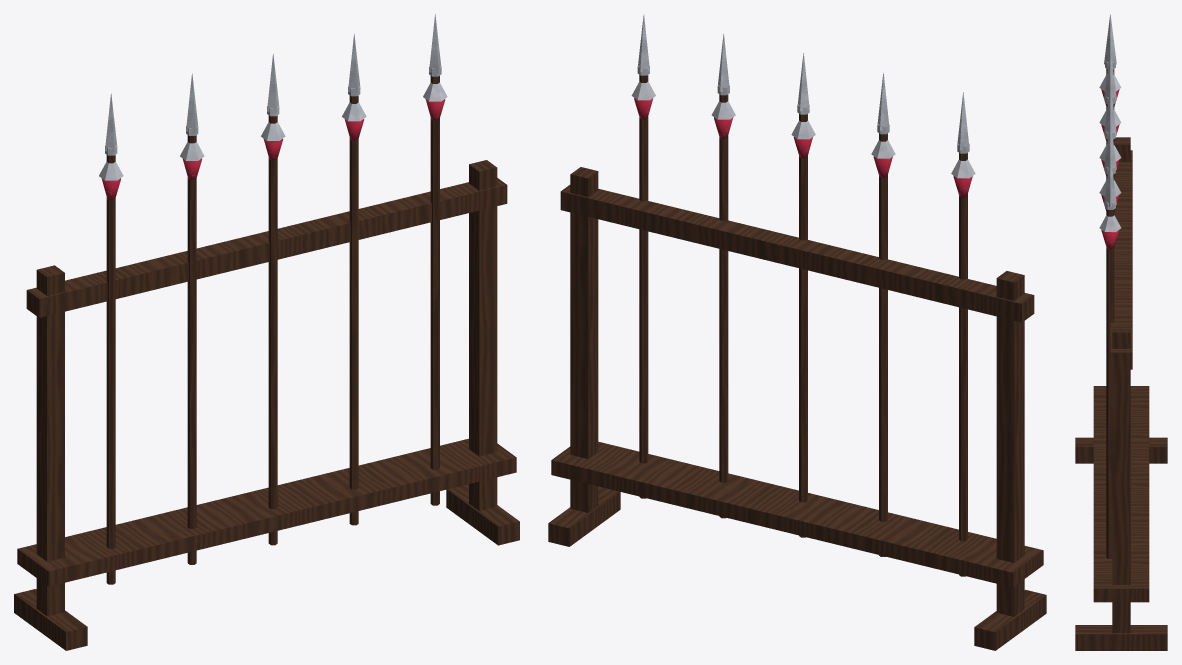
Rendered from weapon_rack.glb.
The picture shows the model from 3 angles, left to right: view 1: azimuth 30°, elevation 25°; view 2: azimuth 150°, elevation 25°; view 3: azimuth 270°, elevation 25°; orthographic projection. The views are drawn at different scales.
Visible parts, largest first — view 1: RackWood, RackBlades, RackTassels; view 2: RackWood, RackBlades, RackTassels; view 3: RackWood, RackBlades, RackTassels.
Boxes of the visible parts, x1,y1,x2,y2 form: RackWood: (14,76,519,650); RackBlades: (99,14,447,180); RackTassels: (101,99,445,200); RackWood: (548,75,1046,650); RackBlades: (631,14,975,178); RackTassels: (634,98,972,197); RackWood: (1075,69,1167,650); RackBlades: (1099,14,1121,231); RackTassels: (1101,89,1119,249).
Size of what is drawn, in the model's own units: 2.6 by 2.8 by 0.5.
Materials: 3 (3 with a texture image).
